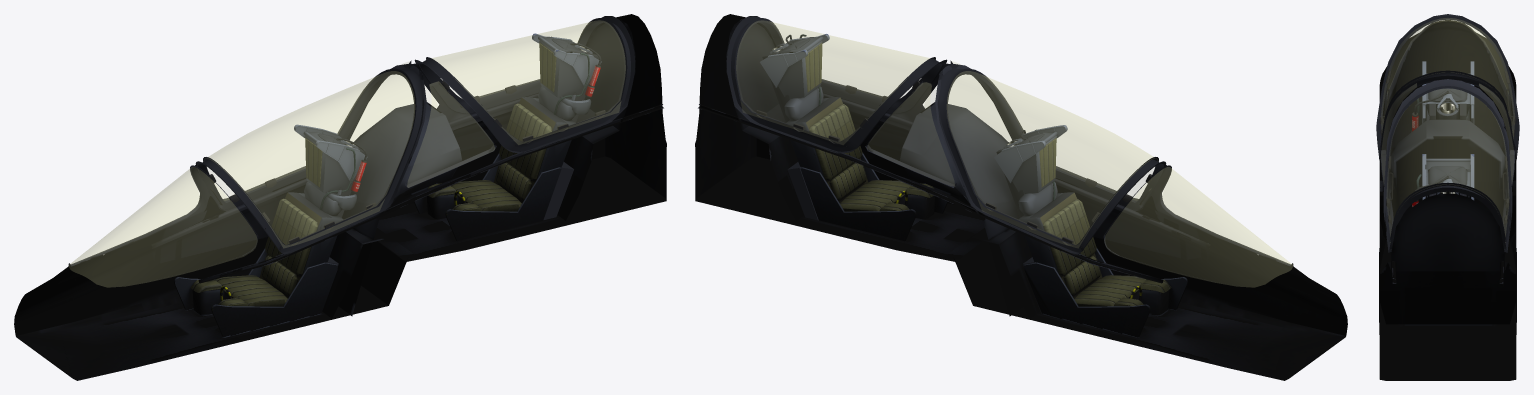
File: interior-BIPLACE.fbx
3 renders of one model, left to right at view 1: azimuth 30°, elevation 25°; view 2: azimuth 150°, elevation 25°; view 3: azimuth 270°, elevation 25°, orthographic. The views are drawn at different scales.
Parts seen in each view (by area): view 1: interieur-BIPLACE, intverriereAvant-BIPLACE, seat.seat-BIPLACE, intverriereArriere-BIPLACE, seat.backseat-BIPLACE, intvitres, intcanopyAvant-BIPLACE, intvitres-BIPLACE, intcanopyArriere-BIPLACE, seat.backframe-BIPLACE; view 2: interieur-BIPLACE, intverriereAvant-BIPLACE, seat.seat-BIPLACE, intverriereArriere-BIPLACE, seat.backseat-BIPLACE, intvitres, intcanopyAvant-BIPLACE, intvitres-BIPLACE, intcanopyArriere-BIPLACE, seat.backframe-BIPLACE; view 3: interieur-BIPLACE, intverriereArriere-BIPLACE, intverriereAvant-BIPLACE, intcanopyAvant-BIPLACE, intcanopyArriere-BIPLACE, seat.seat-BIPLACE, seat.backseat-BIPLACE, intvitres-BIPLACE, intvitres, seat.frame-BIPLACE, seat.backframe-BIPLACE, poigneesArriere-BIPLACE.
Boxes of the visible parts, x1,y1,x2,y2 form: interieur-BIPLACE: (14, 14, 666, 380); intverriereAvant-BIPLACE: (207, 71, 414, 247); seat.seat-BIPLACE: (174, 124, 367, 337); intverriereArriere-BIPLACE: (432, 21, 625, 144); seat.backseat-BIPLACE: (410, 33, 601, 241); intvitres: (69, 167, 256, 286); intcanopyAvant-BIPLACE: (195, 64, 424, 254); intvitres-BIPLACE: (351, 62, 494, 187); intcanopyArriere-BIPLACE: (414, 16, 635, 153); seat.backframe-BIPLACE: (543, 42, 599, 220); interieur-BIPLACE: (695, 14, 1347, 380); intverriereAvant-BIPLACE: (947, 71, 1154, 247); seat.seat-BIPLACE: (994, 125, 1187, 337); intverriereArriere-BIPLACE: (736, 21, 929, 144); seat.backseat-BIPLACE: (760, 34, 951, 241); intvitres: (1105, 167, 1292, 286); intcanopyAvant-BIPLACE: (937, 64, 1166, 254); intvitres-BIPLACE: (867, 61, 1010, 185); intcanopyArriere-BIPLACE: (726, 16, 947, 153); seat.backframe-BIPLACE: (762, 42, 818, 220); interieur-BIPLACE: (1377, 14, 1518, 380); intverriereArriere-BIPLACE: (1387, 89, 1508, 235); intverriereAvant-BIPLACE: (1381, 18, 1514, 137); intcanopyAvant-BIPLACE: (1376, 15, 1519, 159); intcanopyArriere-BIPLACE: (1384, 86, 1511, 252); seat.seat-BIPLACE: (1411, 61, 1474, 132); seat.backseat-BIPLACE: (1412, 154, 1474, 206); intvitres-BIPLACE: (1381, 83, 1513, 179); intvitres: (1387, 20, 1508, 92); seat.frame-BIPLACE: (1429, 103, 1466, 119); seat.backframe-BIPLACE: (1404, 191, 1492, 325); poigneesArriere-BIPLACE: (1389, 171, 1506, 200).
Size of the model in its own units: 424 by 78.96 by 142.
